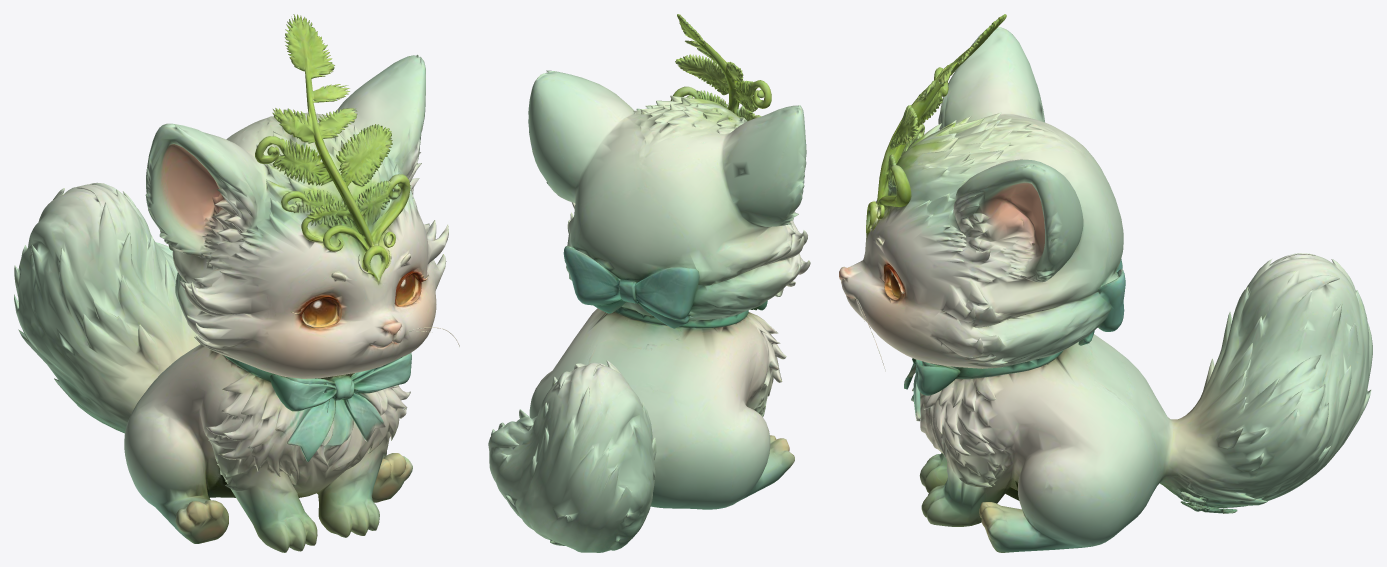
The model's file is qingya_3d_v4_web.glb.
3 renders of one model, left to right at view 1: azimuth 30°, elevation 25°; view 2: azimuth 150°, elevation 25°; view 3: azimuth 270°, elevation 25°, orthographic. The views are drawn at different scales.
Visible parts, largest first — view 1: node_0; view 2: node_0; view 3: node_0.
Part boxes in pixels (box(x1,y1,x2,y2)): node_0: box(14, 14, 459, 552); node_0: box(488, 14, 810, 552); node_0: box(839, 14, 1372, 552).
Size of the model in its own units: 0.6048 by 0.9991 by 0.9755.
Materials: 1 (1 with a texture image).
